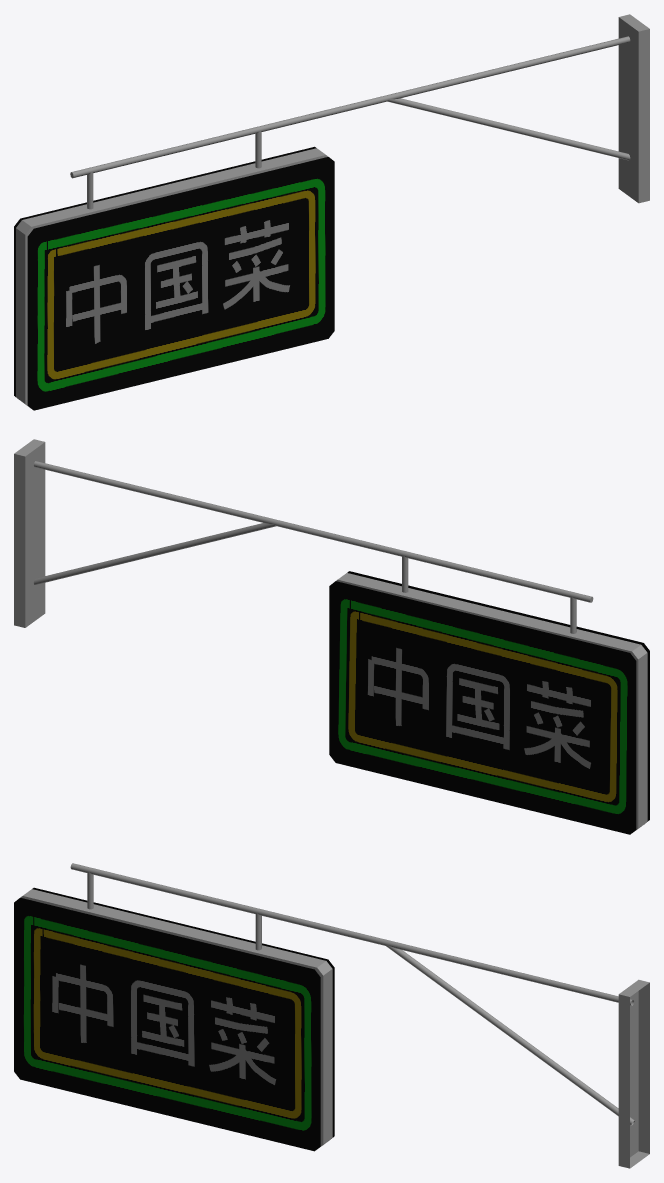
File: neon sign L 3.FBX
The picture shows the model from 3 angles, top to bottom: view 1: azimuth 30°, elevation 25°; view 2: azimuth 150°, elevation 25°; view 3: azimuth 330°, elevation 25°; orthographic projection.
Visible parts, largest first — view 1: Box214; view 2: Box214; view 3: Box214.
Part boxes in pixels (box(x1,y1,x2,y2)): Box214: box(14, 14, 649, 410); Box214: box(14, 439, 649, 834); Box214: box(14, 863, 649, 1168).
Bounding box in the file's own units: 5.01 × 1.81 × 0.2799.
Materials: 2 (1 with a texture image).
